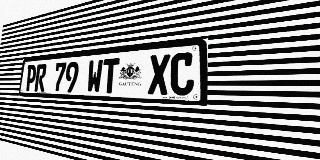7: (52, 62, 67, 92)
9: (64, 61, 79, 92)
C: (170, 52, 195, 96)
P: (25, 65, 37, 91)
R: (34, 64, 47, 92)
T: (101, 58, 120, 94)
W: (86, 59, 103, 93)
X: (148, 54, 170, 95)
